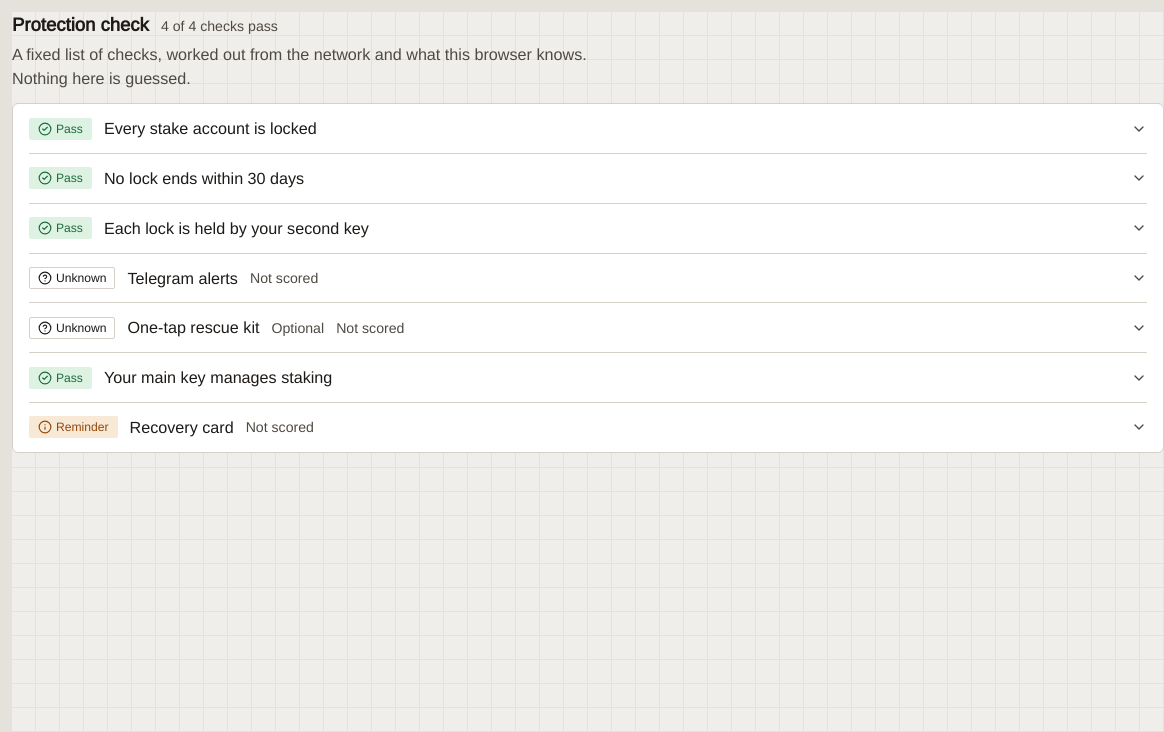
Test: ProtectionCheck › a folded check opens to its sentence and its per-account links
This screenshot has width=1164, height=732.
Click the heading "Reminder Recovery card Not scored".
click(73, 427)  # box [29, 416, 1147, 438]
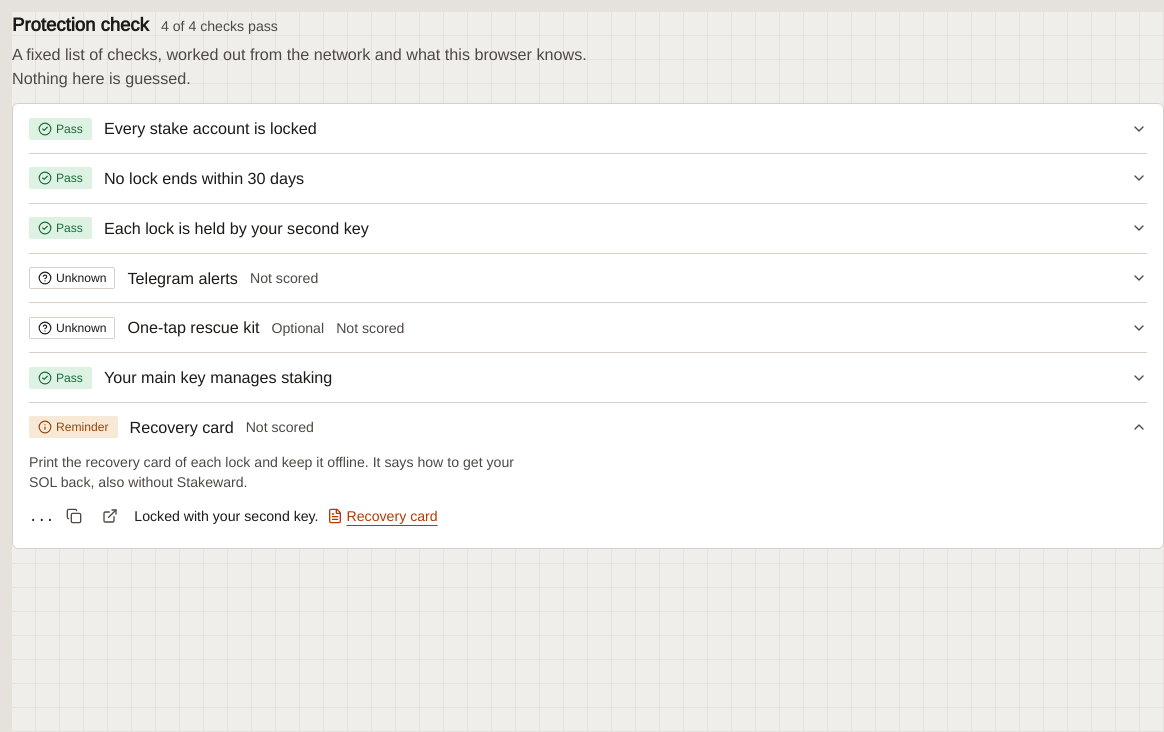
Check: the text "Print the recovery card of each lock" is shown, box [29, 453, 514, 491]
